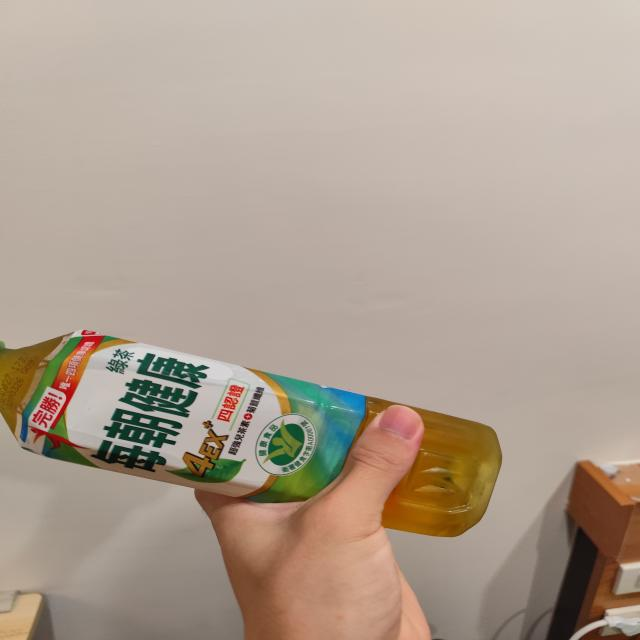MeiChou_GreenTea: (0, 295, 559, 557)
